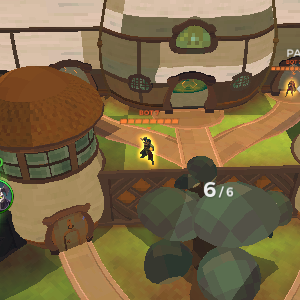model: (138, 134, 158, 166), (283, 74, 300, 98)
